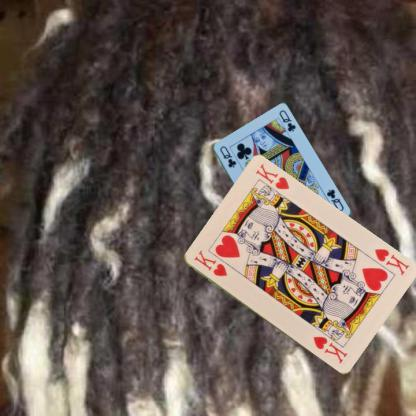Kh: (371, 245, 410, 276), (191, 247, 228, 278)
Qc: (323, 186, 345, 212), (218, 143, 238, 169)
